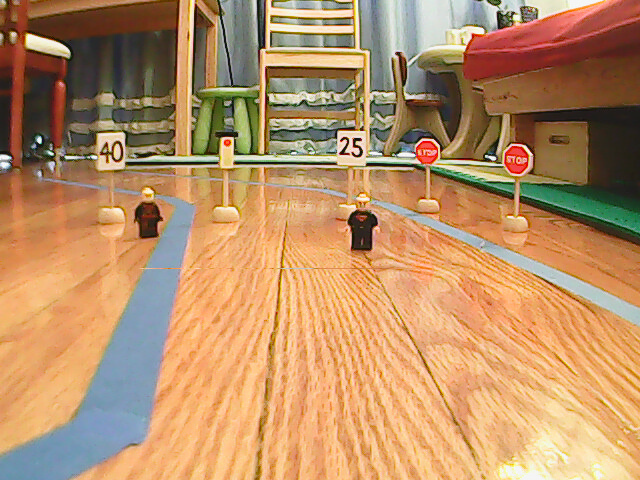Person: (347, 193, 380, 252), (133, 186, 162, 237)
Red Traffic Light: (214, 132, 239, 169)
Speed Limit 25: (336, 130, 368, 167)
Speed Limit 40: (95, 132, 127, 169)
Stop Sign: (503, 142, 534, 178), (413, 139, 441, 168)
